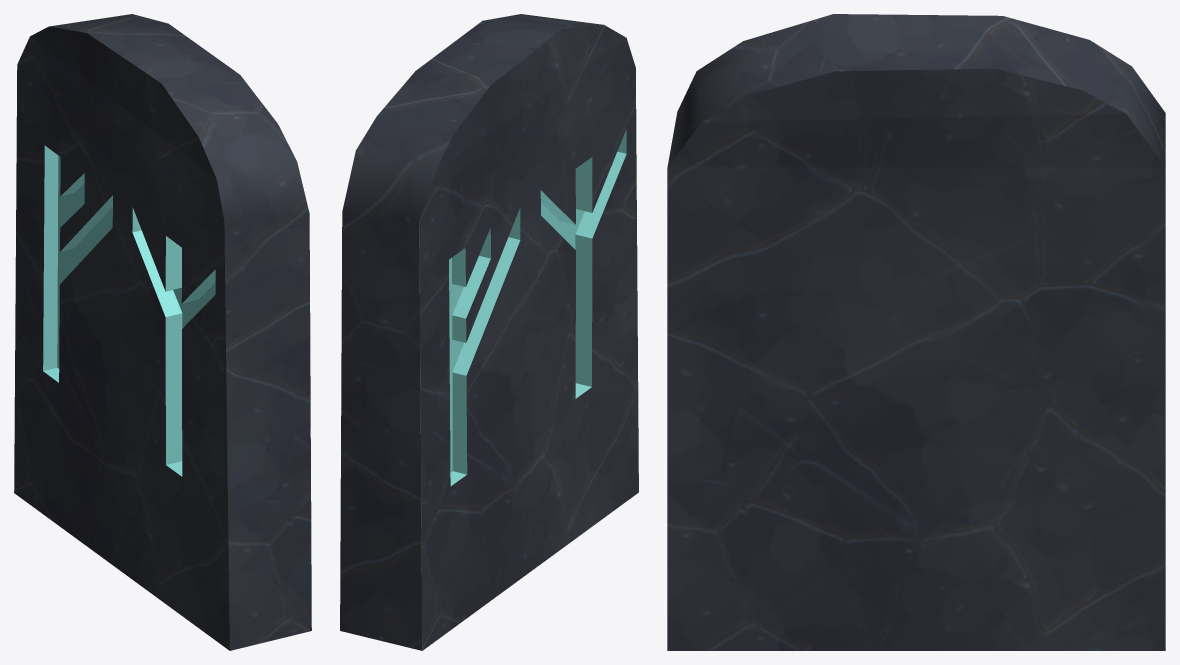
File: Door 5.fbx
The picture shows the model from 3 angles, left to right: view 1: azimuth 30°, elevation 25°; view 2: azimuth 150°, elevation 25°; view 3: azimuth 270°, elevation 25°; orthographic projection. The views are drawn at different scales.
Visible parts, largest first — view 1: Door_5_6; view 2: Door_5_6; view 3: Door_5_6.
Part boxes in pixels (<box>): Door_5_6: <box>14,14,311,650</box>; Door_5_6: <box>340,14,638,650</box>; Door_5_6: <box>667,14,1165,650</box>.
Bounding box in the file's own units: 0.7182 × 4.18 × 3.18.
